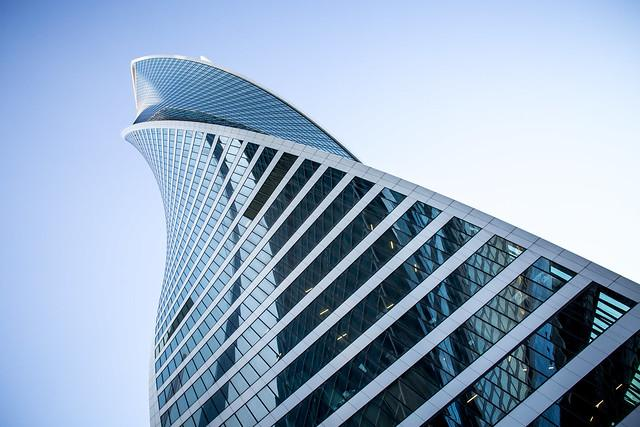building: (119, 44, 638, 426)
